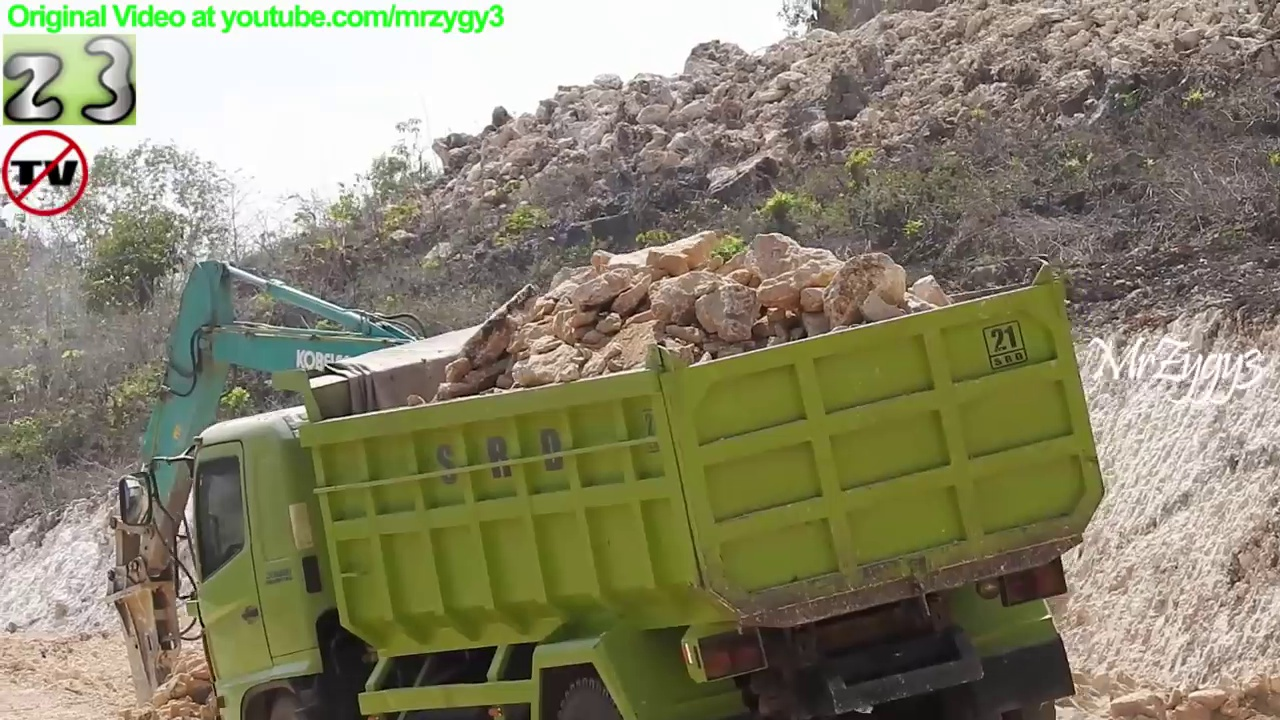excavator: (103, 251, 897, 720)
truck: (115, 255, 1112, 720)
